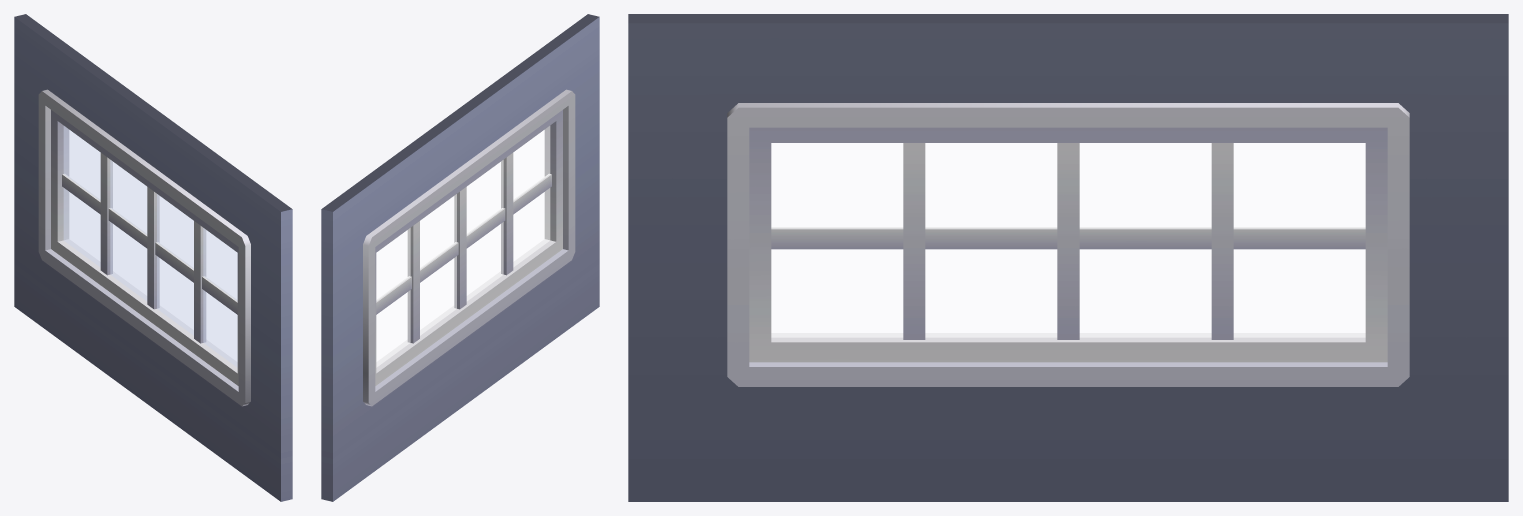
File: wall-window-wide-square-detailed.optimized.glb
The picture shows the model from 3 angles, left to right: view 1: azimuth 30°, elevation 25°; view 2: azimuth 150°, elevation 25°; view 3: azimuth 270°, elevation 25°; orthographic projection. The views are drawn at different scales.
Visible parts, largest first — view 1: wall-window-wide-square-detailed, (%ignore); view 2: wall-window-wide-square-detailed, (%ignore); view 3: wall-window-wide-square-detailed, (%ignore).
Part boxes in pixels (x1=…): wall-window-wide-square-detailed: x1=14, y1=14, x2=292, y2=501; (%ignore): x1=63, y1=126, x2=237, y2=367; wall-window-wide-square-detailed: x1=321, y1=14, x2=599, y2=501; (%ignore): x1=376, y1=126, x2=550, y2=367; wall-window-wide-square-detailed: x1=628, y1=14, x2=1508, y2=501; (%ignore): x1=771, y1=143, x2=1365, y2=337.
Bounding box in the file's own units: 0.2002 × 2.4 × 4.
2 materials, 1 textured.
